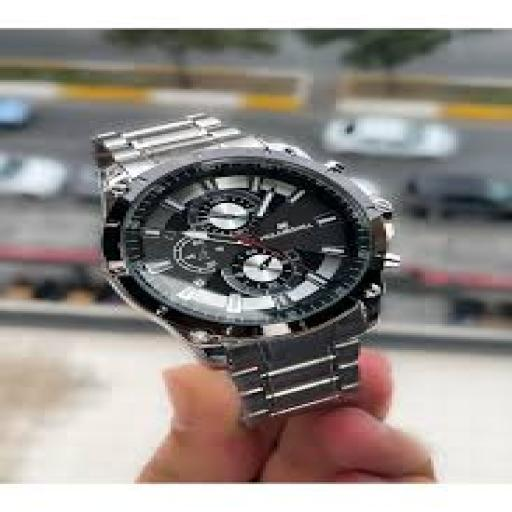KolSaati: (44, 89, 461, 442)
